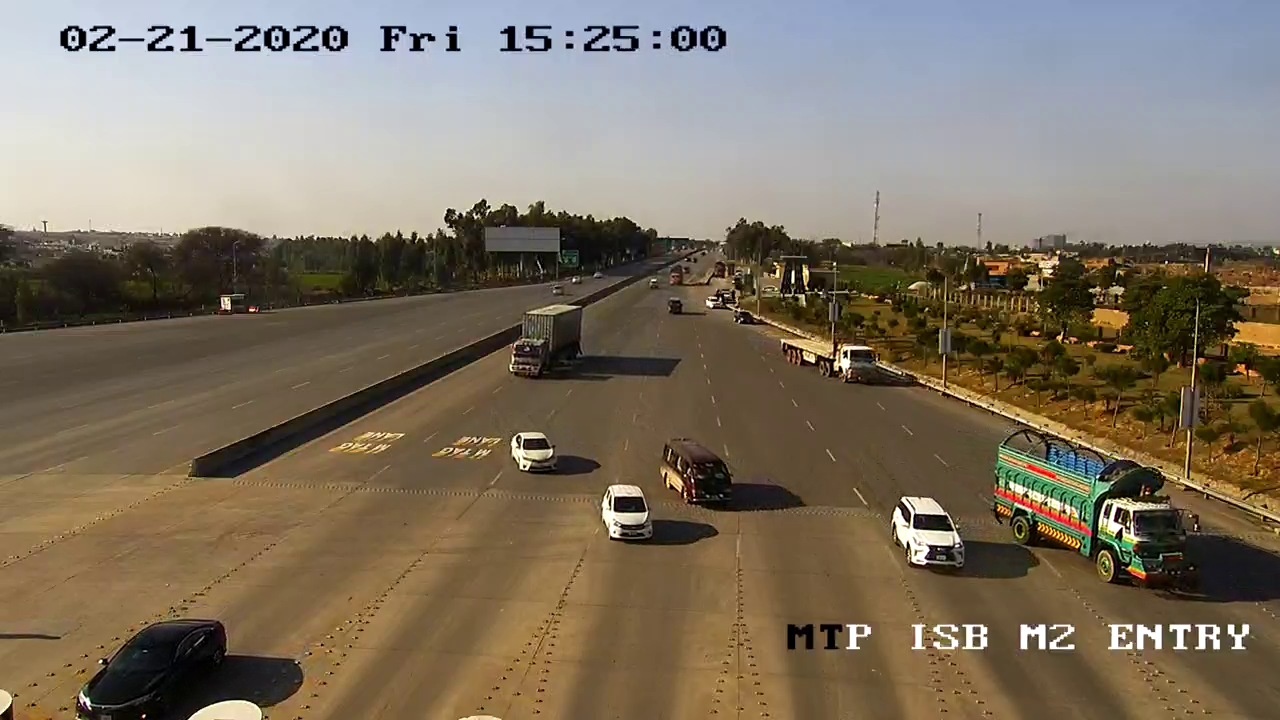f1: (890, 487, 970, 580), (593, 481, 668, 548), (504, 428, 562, 476)
f2: (655, 429, 742, 511)
f5: (992, 423, 1206, 592)
f6: (506, 296, 592, 384), (772, 327, 882, 386)
